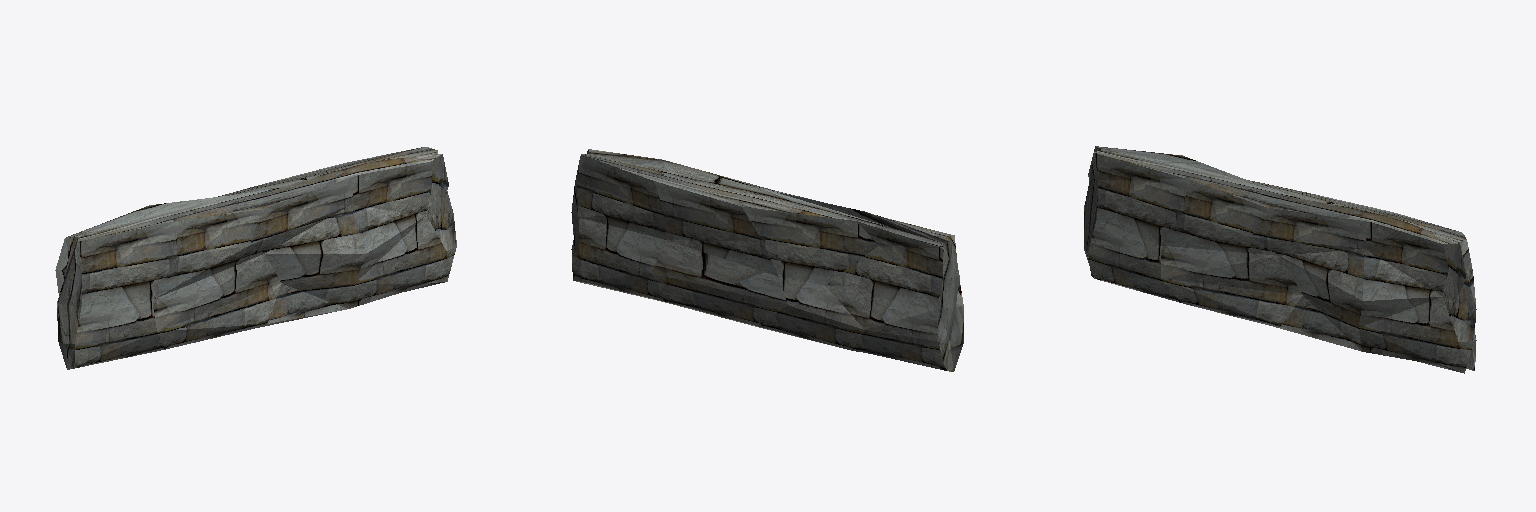
3 renders of one model, left to right at view 1: azimuth 30°, elevation 25°; view 2: azimuth 150°, elevation 25°; view 3: azimuth 330°, elevation 25°, orthographic.
Bounding box in the file's own units: 6.18 × 2.16 × 0.7506.
Materials: 1 (1 with a texture image).